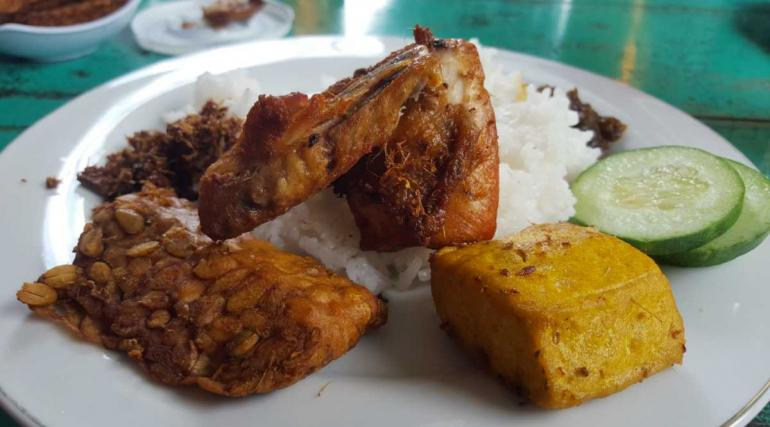Ayam: (196, 14, 525, 250)
